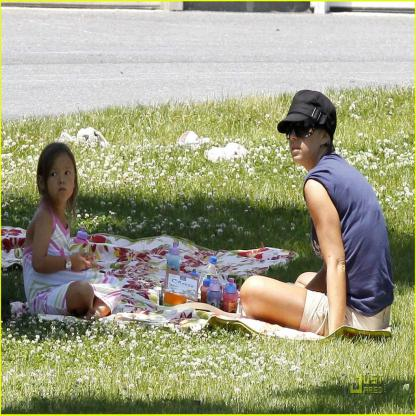face: (288, 102, 319, 163), (49, 153, 76, 204)
